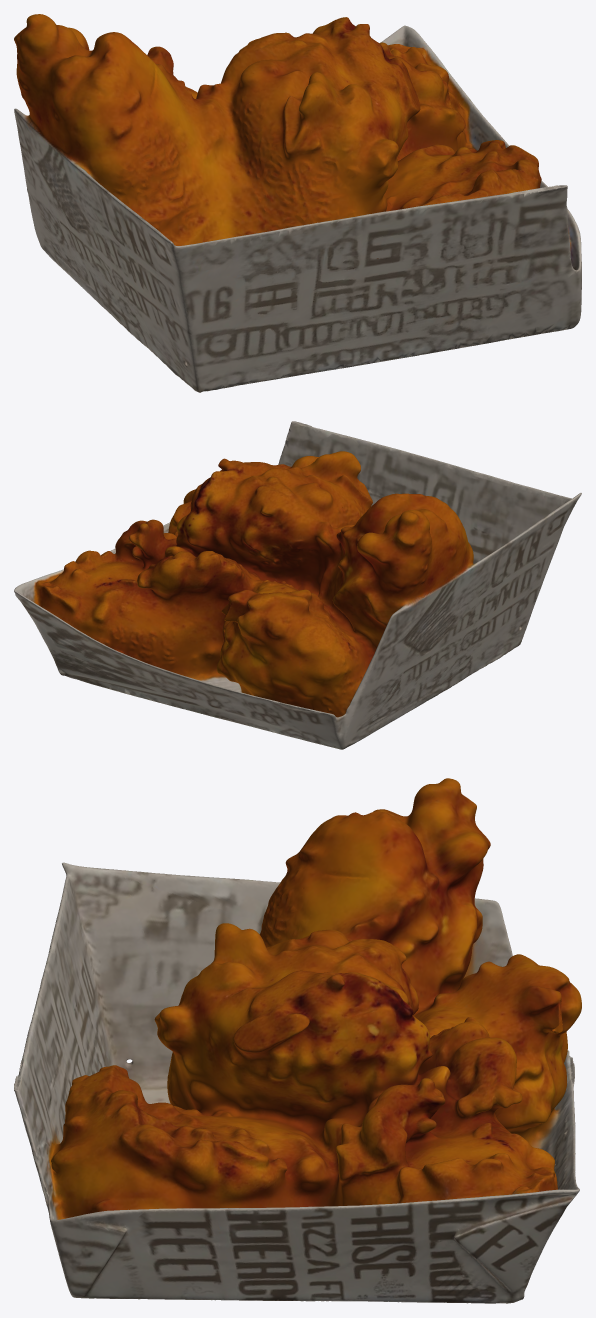
File: cake.glb
3 renders of one model, top to bottom at view 1: azimuth 30°, elevation 25°; view 2: azimuth 150°, elevation 25°; view 3: azimuth 270°, elevation 25°, orthographic. The views are drawn at different scales.
Visible parts, largest first — view 1: tripo_node_c41866dc-d4e3-40f6-ba8b-8013586691cd; view 2: tripo_node_c41866dc-d4e3-40f6-ba8b-8013586691cd; view 3: tripo_node_c41866dc-d4e3-40f6-ba8b-8013586691cd.
Part boxes in pixels (left/top/right/bottom): tripo_node_c41866dc-d4e3-40f6-ba8b-8013586691cd: left=14, top=14, right=581, bottom=392; tripo_node_c41866dc-d4e3-40f6-ba8b-8013586691cd: left=14, top=421, right=581, bottom=749; tripo_node_c41866dc-d4e3-40f6-ba8b-8013586691cd: left=14, top=778, right=581, bottom=1303.
Size of the model in its own units: 0.9993 by 0.5727 by 0.9358.
Materials: 1 (1 with a texture image).
